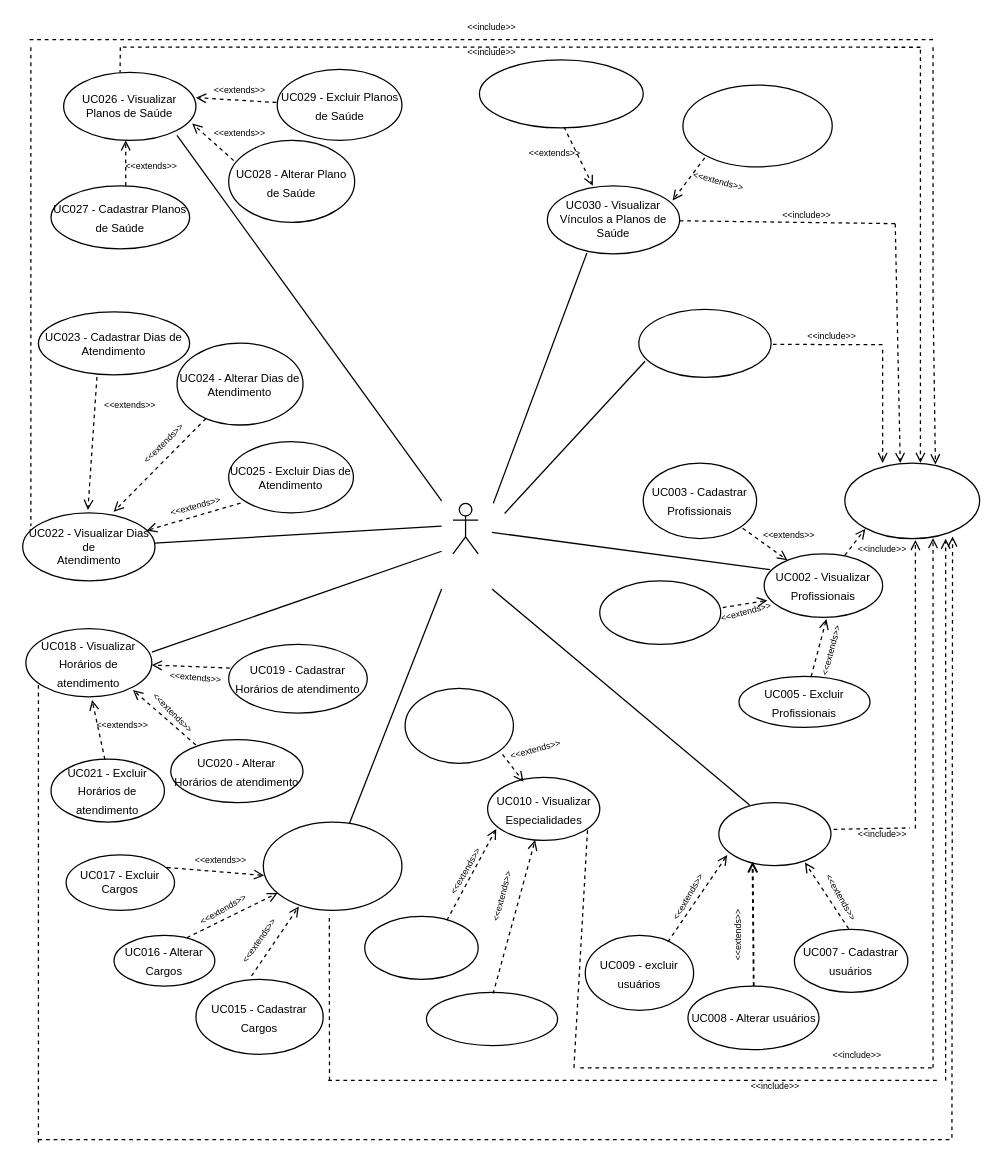
This 1002x1169 diagram has some shape labels left out. Here are the shapes that lost their labels. From the top down, the centre of each, then its label:
At (560,93): "UC031 - Vincular Planos de Saúde a Médicos".
At (757,125): "UC032 - Desvincular Planos de Saúde a Médicos".
At (704,342): "UC050 - Imprimir Relatórios".
At (912,500): "UC001 - Acessar Sistema".
At (465,528): "Administrador".
At (659,612): "UC004 - Alterar Profissionais".
At (458,725): "UC013 - excluir usuários".
At (774,833): "UC006 - Visualizar usuários".
At (332,865): "UC014 - Visualizar Cargos".
At (421,947): "UC011 - Cadastrar Especialidades".
At (491,1018): "UC012 - Alterar Especialidades".
